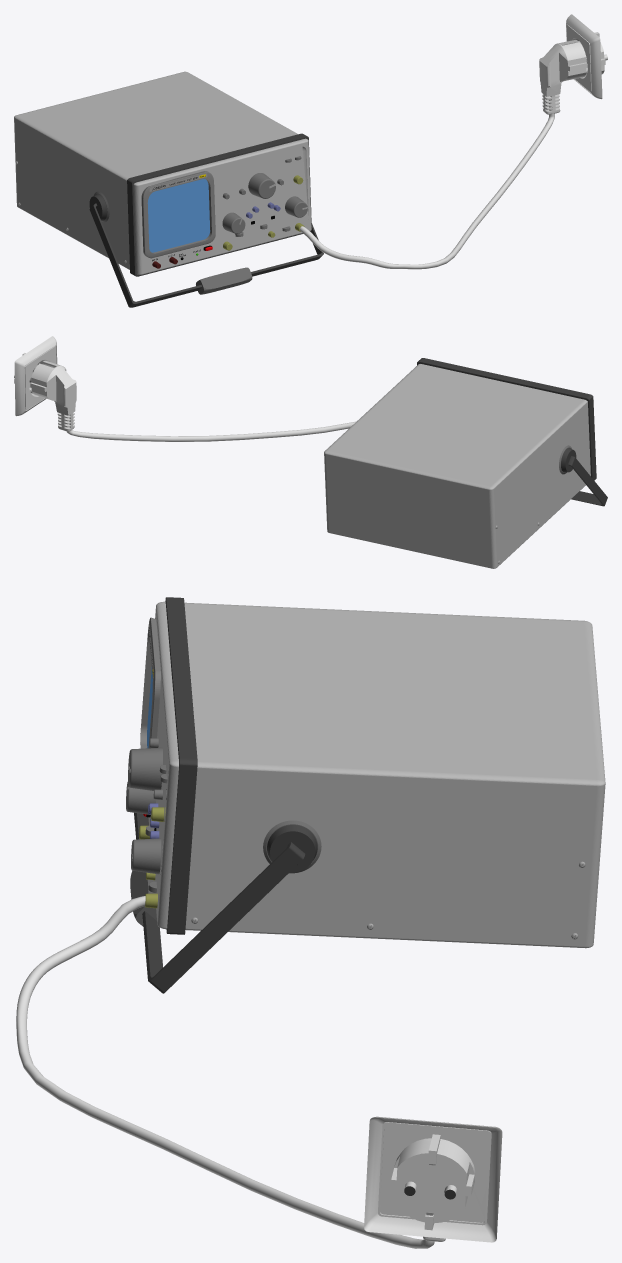
Rendered from CROnew.fbx.
3 views of the same model, one above another, from view 1: azimuth 30°, elevation 25°; view 2: azimuth 150°, elevation 25°; view 3: azimuth 270°, elevation 25° (orthographic). The views are drawn at different scales.
Visible parts, largest first — view 1: Cube.002, Cube.012, power plug, Cube.013, power plug 1 cable, power outlet, Cube.014, Cube.001, Cube.015, Cylinder.001; view 2: Cube.002, power plug, power plug 1 cable, Cube.013, power outlet, Cube.014; view 3: Cube.002, power outlet, power plug 1 cable, Cube.013, Cube.014, Cube.001, Cylinder.001, Cylinder.002, Cylinder.016.
Boxes of the visible parts, x1,y1,x2,y2 form: Cube.002: (14,71,311,274); Cube.012: (147,179,210,252); power plug: (539,40,587,114); Cube.013: (127,133,311,276); power plug 1 cable: (299,99,554,269); power outlet: (566,14,607,99); Cube.014: (89,203,323,307); Cube.001: (141,171,215,258); Cube.015: (196,267,252,294); Cylinder.001: (248,173,275,198); Cube.002: (324,364,590,568); power plug: (29,361,76,431); power plug 1 cable: (67,421,355,441); Cube.013: (417,358,596,480); power outlet: (14,336,57,416); Cube.014: (568,456,607,506); Cube.002: (148,601,605,948); power outlet: (364,1116,502,1242); power plug 1 cable: (16,896,434,1248); Cube.013: (165,597,197,934); Cube.014: (134,812,305,993); Cube.001: (140,617,160,748); Cylinder.001: (128,747,162,790); Cylinder.002: (267,825,317,872); Cylinder.016: (131,838,163,874).
Bounding box in the file's own units: 3281 × 736 × 1622.
